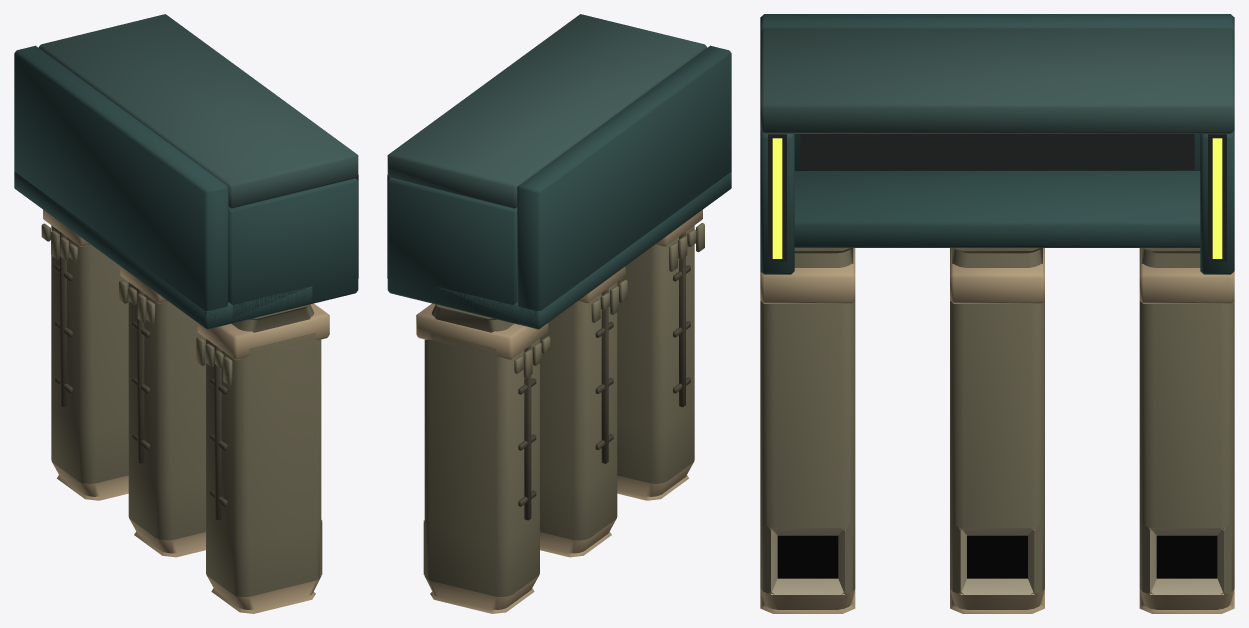
Rendered from warden_mantle_hand.glb.
3 renders of one model, left to right at view 1: azimuth 30°, elevation 25°; view 2: azimuth 150°, elevation 25°; view 3: azimuth 270°, elevation 25°, orthographic. The views are drawn at different scales.
Visible parts, largest first — view 1: HandWrist, HandThreeFingers; view 2: HandWrist, HandThreeFingers; view 3: HandWrist, HandThreeFingers.
Part boxes in pixels (x1=…): HandWrist: x1=14, y1=14, x2=358, y2=329; HandThreeFingers: x1=41, y1=210, x2=329, y2=613; HandWrist: x1=387, y1=14, x2=731, y2=329; HandThreeFingers: x1=416, y1=210, x2=704, y2=613; HandWrist: x1=760, y1=14, x2=1234, y2=274; HandThreeFingers: x1=760, y1=248, x2=1234, y2=613.
Bounding box in the file's own units: 1.17 × 3.1 × 2.5.
